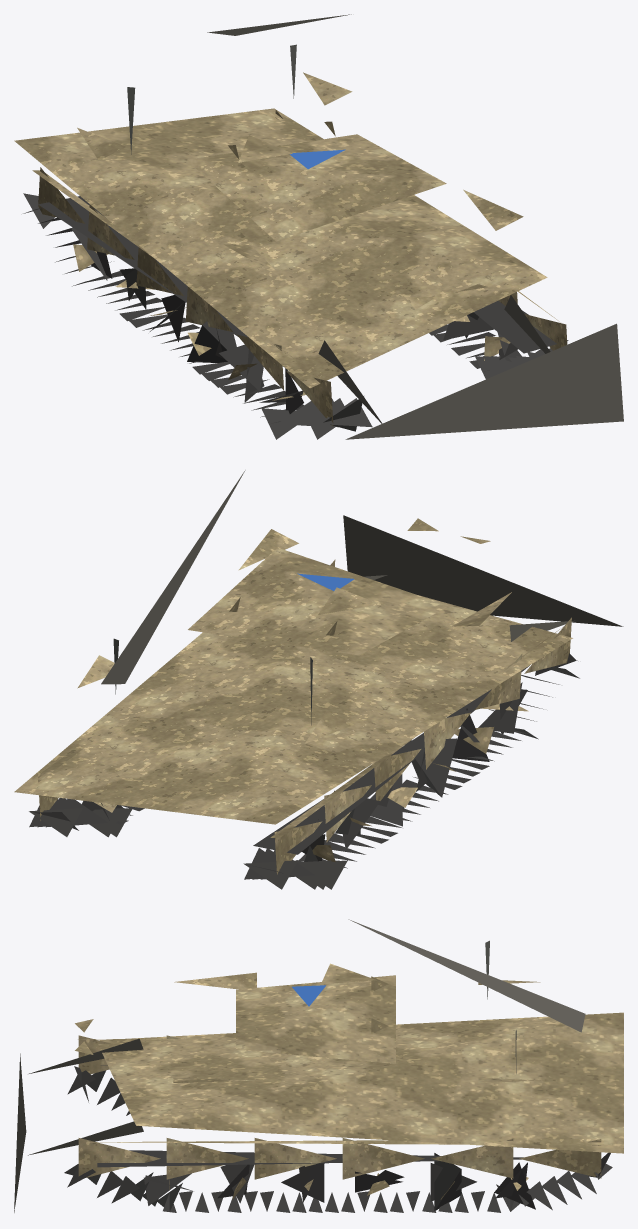
The model's file is eng_e4_us_engineer_LOD2.glb.
3 views of the same model, one above another, from view 1: azimuth 30°, elevation 25°; view 2: azimuth 150°, elevation 25°; view 3: azimuth 270°, elevation 25° (orthographic). The views are drawn at different scales.
Visible parts, largest first — view 1: eng_e4_us_engineer_LOD2_body, eng_e4_us_engineer_LOD2_track, eng_e4_us_engineer_LOD2_deck; view 2: eng_e4_us_engineer_LOD2_body, eng_e4_us_engineer_LOD2_track, eng_e4_us_engineer_LOD2_deck; view 3: eng_e4_us_engineer_LOD2_body, eng_e4_us_engineer_LOD2_track, eng_e4_us_engineer_LOD2_deck.
Part boxes in pixels (x1=…): eng_e4_us_engineer_LOD2_body: x1=14, y1=72, x2=567, y2=426; eng_e4_us_engineer_LOD2_track: x1=23, y1=193, x2=568, y2=439; eng_e4_us_engineer_LOD2_deck: x1=207, y1=14, x2=623, y2=439; eng_e4_us_engineer_LOD2_body: x1=14, y1=518, x2=572, y2=874; eng_e4_us_engineer_LOD2_track: x1=29, y1=653, x2=579, y2=889; eng_e4_us_engineer_LOD2_deck: x1=101, y1=470, x2=623, y2=684; eng_e4_us_engineer_LOD2_body: x1=75, y1=963, x2=623, y2=1199; eng_e4_us_engineer_LOD2_track: x1=64, y1=1065, x2=612, y2=1212; eng_e4_us_engineer_LOD2_deck: x1=14, y1=919, x2=585, y2=1212.
Bounding box in the file's own units: 3.55 × 3.73 × 7.63.
5 materials, 1 textured.
